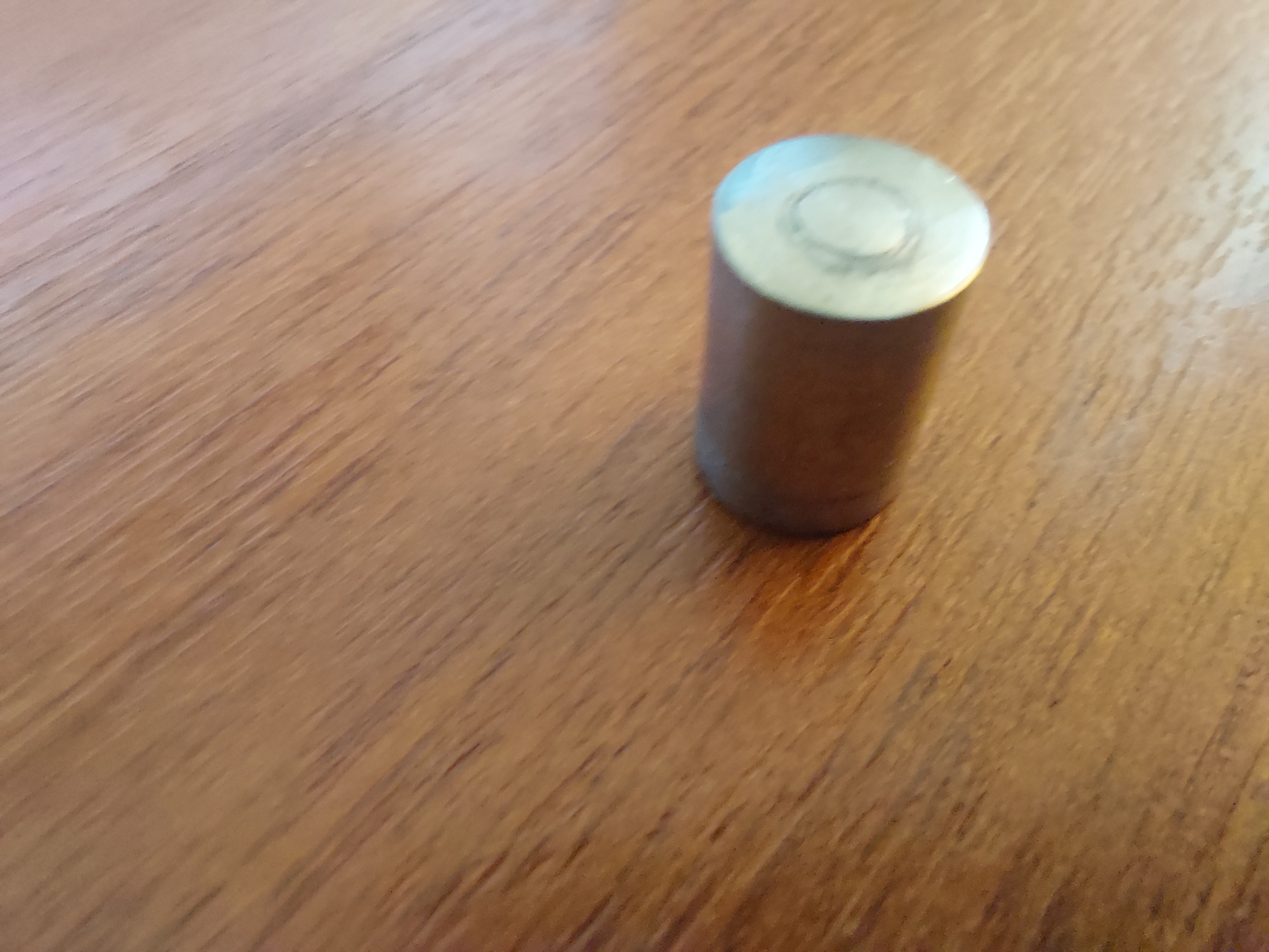tablet: (622, 90, 1031, 574)
